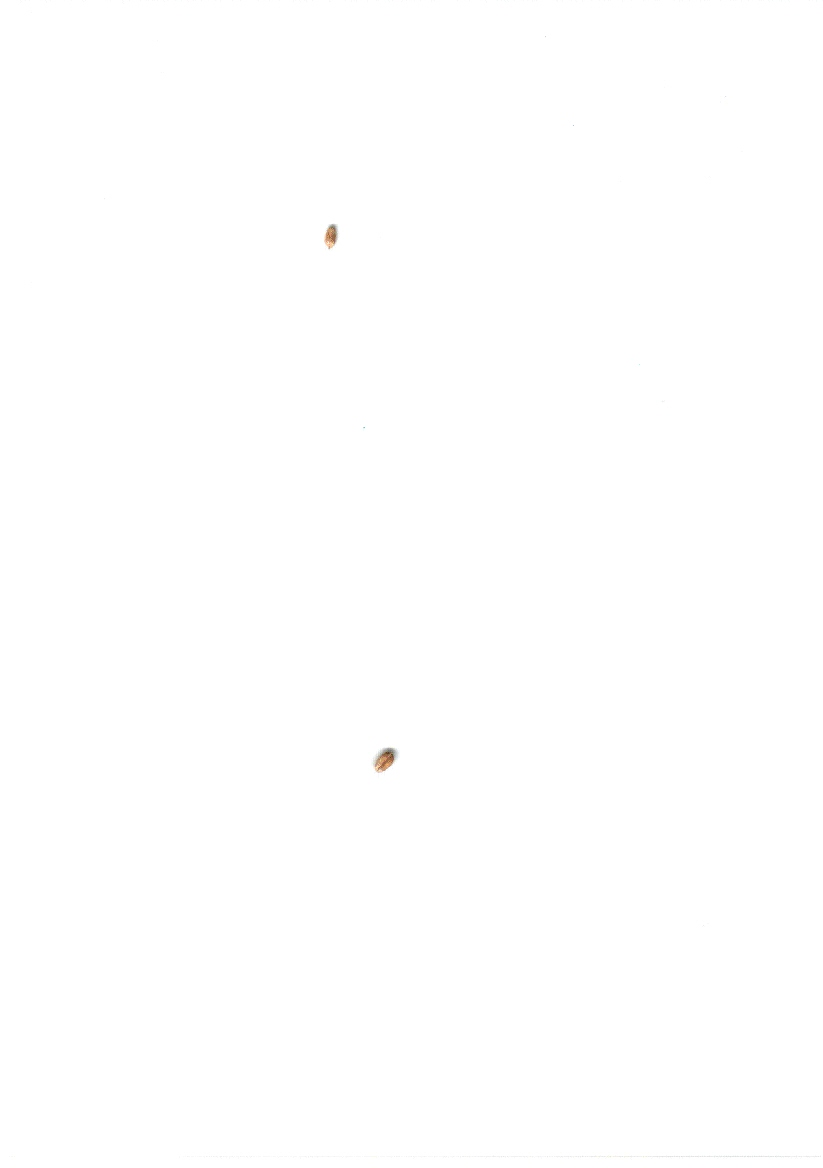grains: (306, 212, 358, 267), (362, 741, 406, 786)
